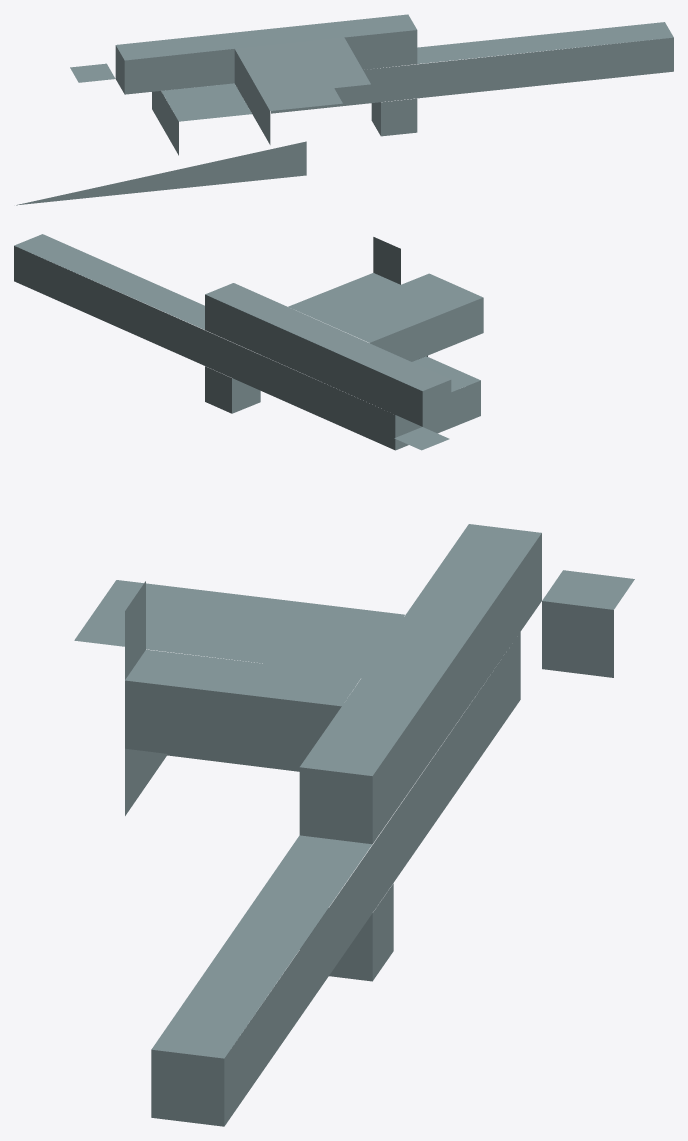
3 renders of one model, top to bottom at view 1: azimuth 30°, elevation 25°; view 2: azimuth 150°, elevation 25°; view 3: azimuth 270°, elevation 25°, orthographic. The views are drawn at different scales.
Visible parts, largest first — view 1: measured-industrial; view 2: measured-industrial; view 3: measured-industrial.
Boxes of the visible parts, x1,y1,x2,y2 form: measured-industrial: (16,14,673,205); measured-industrial: (14,234,483,450); measured-industrial: (74,524,634,1126).
Size of the model in its own units: 19.64 by 4 by 7.73.
